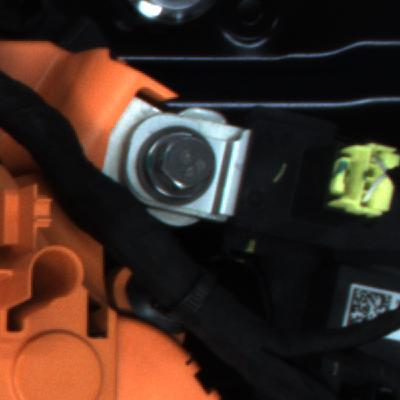nut_b: (131, 125, 211, 206)
